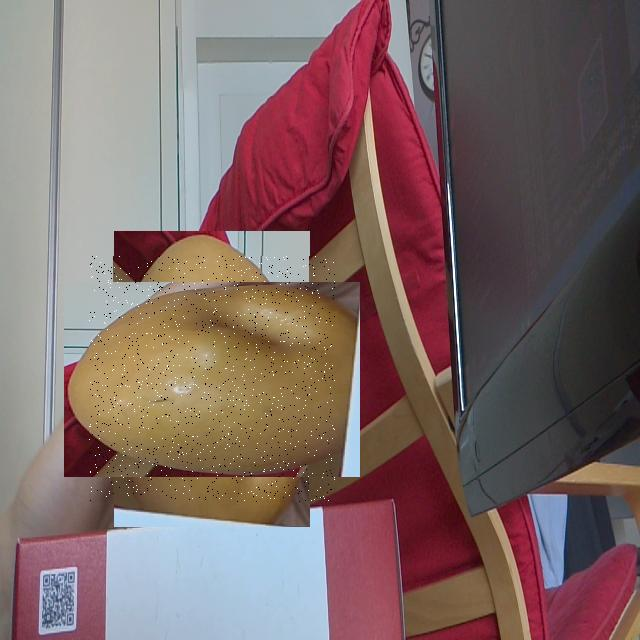pear: (90, 256, 336, 502)
